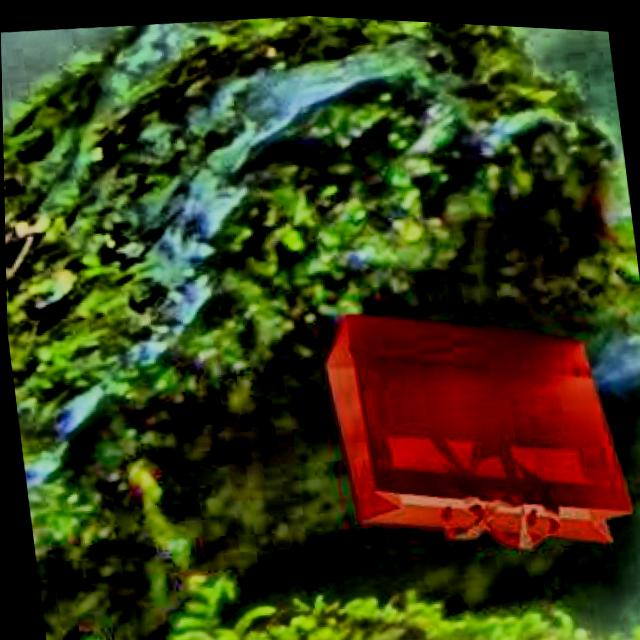Paper-bag: (308, 259, 640, 585)
